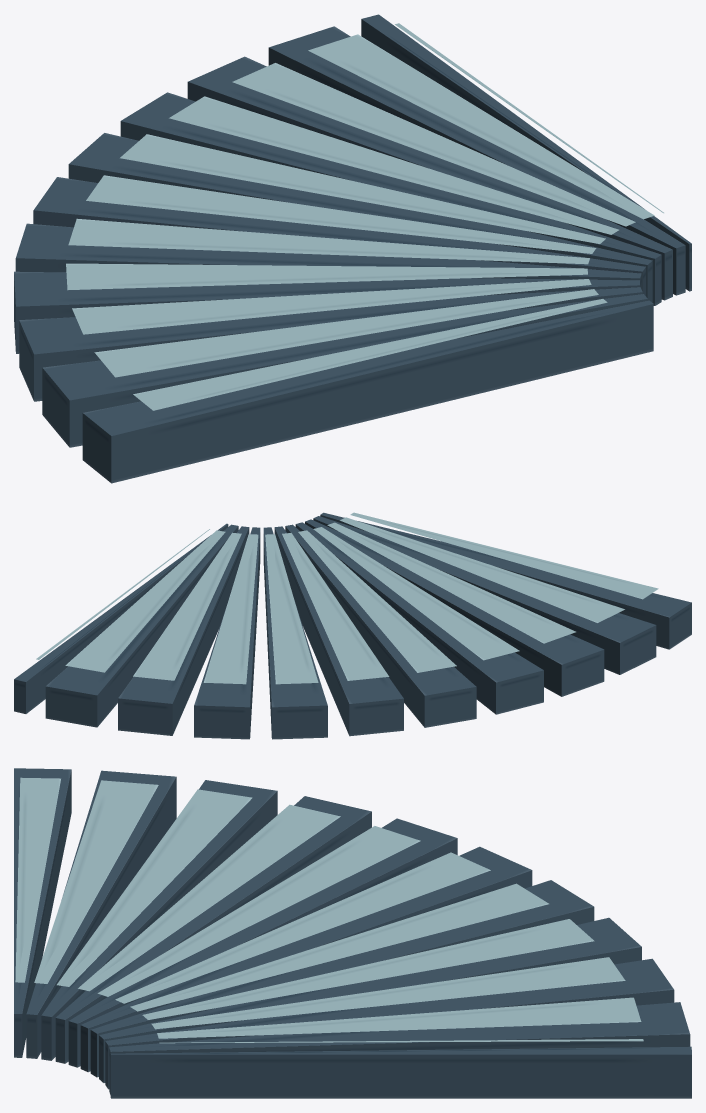
Rendered from sc_tread_curve_right_11.obj.
The picture shows the model from 3 angles, top to bottom: view 1: azimuth 30°, elevation 25°; view 2: azimuth 150°, elevation 25°; view 3: azimuth 270°, elevation 25°; orthographic projection. The views are drawn at different scales.
Size of the model in its own units: 17.5 by 1.56 by 17.5.
1 material, 1 textured.
